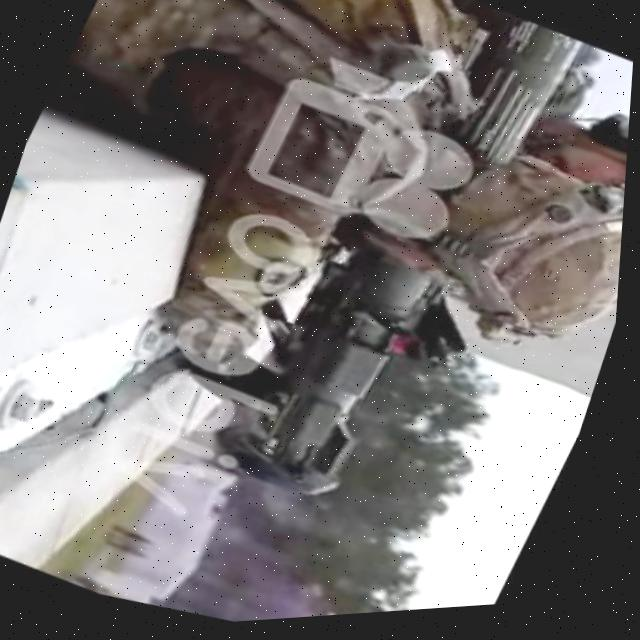rocket: (199, 0, 594, 545)
